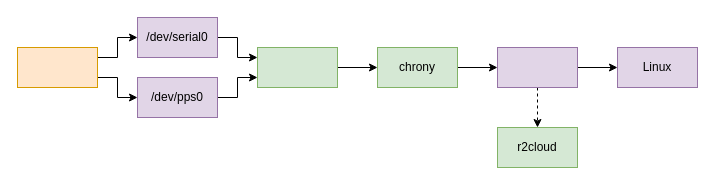
Some shapes in this 715 by 185 pixel diagram are drawn without their labels. Here are the shapes that lost their labels. From the top down, the centre of each, then its label:
At [57,67]: "PA1616D".
At [297,67]: "GPSD".
At [537,67]: "systemd".
